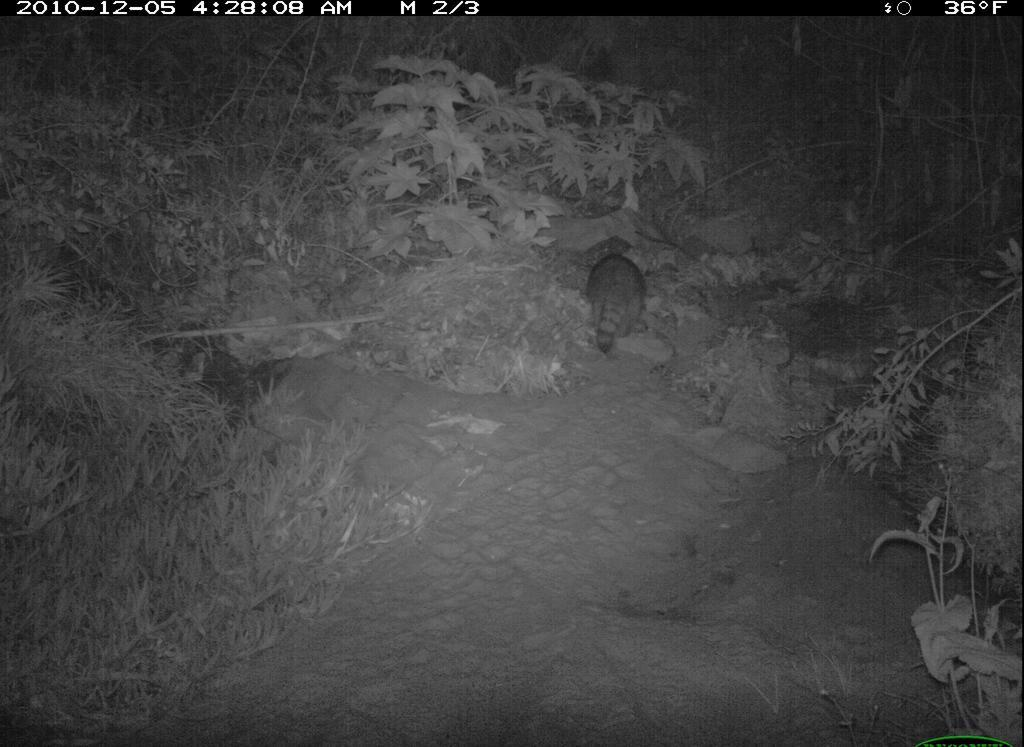raccoon: (577, 241, 655, 354)
